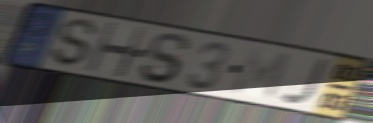3: (186, 40, 230, 90)
H: (84, 20, 148, 80)
J: (279, 57, 332, 107)
M: (228, 45, 294, 103)
S: (137, 31, 193, 85), (50, 17, 99, 69)
